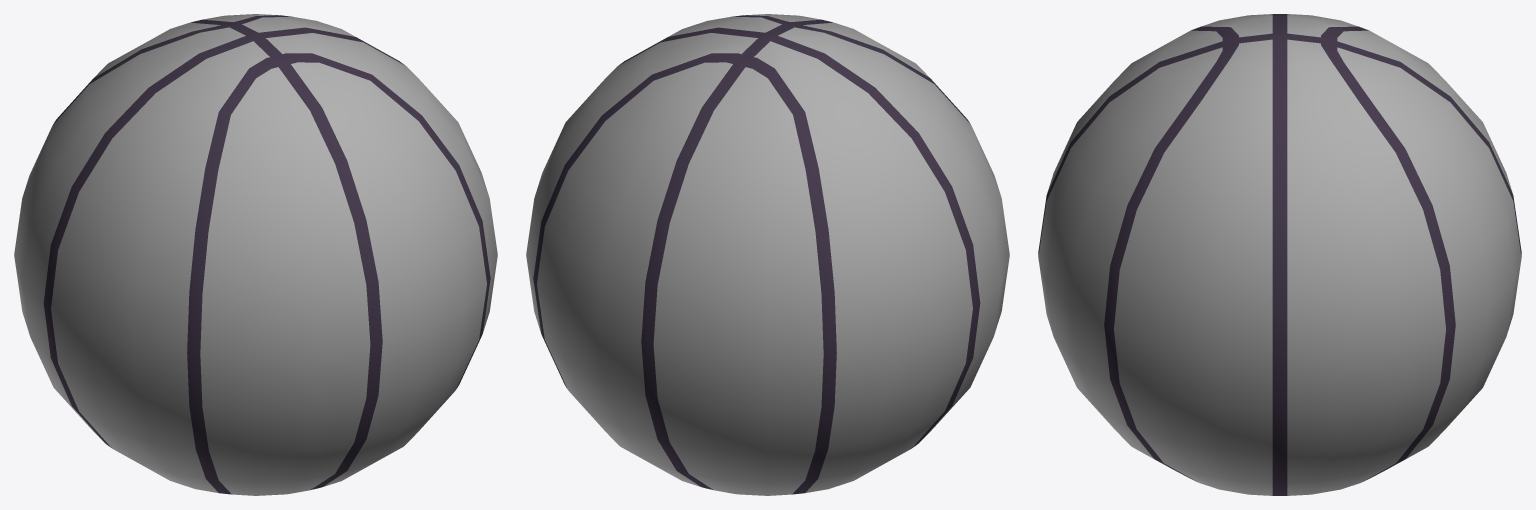
Rendered from Basketball.fbx.
3 views of the same model, side by side, from view 1: azimuth 30°, elevation 25°; view 2: azimuth 150°, elevation 25°; view 3: azimuth 270°, elevation 25° (orthographic).
Parts seen in each view (by area): view 1: Basketball_Blue; view 2: Basketball_Blue; view 3: Basketball_Blue.
Boxes of the visible parts, x1=… form: Basketball_Blue: x1=14, y1=14, x2=497, y2=495; Basketball_Blue: x1=526, y1=14, x2=1009, y2=495; Basketball_Blue: x1=1038, y1=14, x2=1521, y2=495.
Size of the model in its own units: 95.63 by 95.47 by 95.72.
